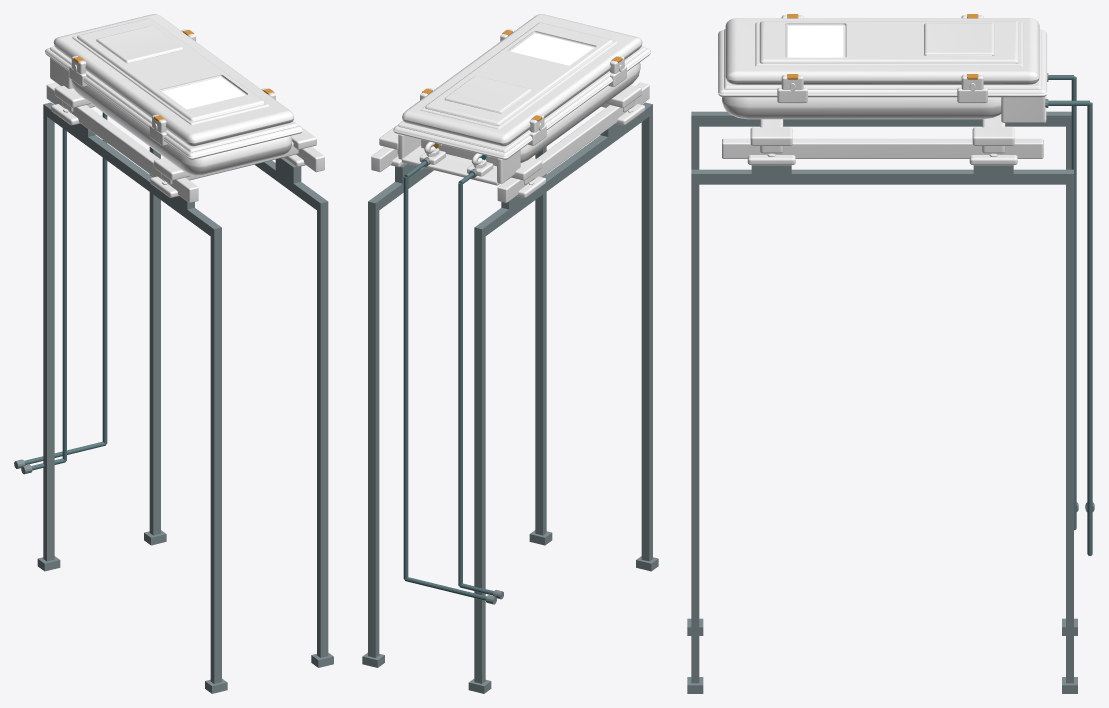
The model's file is exemplar.glb.
3 renders of one model, left to right at view 1: azimuth 30°, elevation 25°; view 2: azimuth 150°, elevation 25°; view 3: azimuth 270°, elevation 25°, orthographic. The views are drawn at different scales.
Visible parts, largest first — view 1: Static satin steel, REFERENCE upper Batch 01 warm ceramic enamel, REFERENCE upper Batch 02 graphite powdercoat, REFERENCE upper Batch 03 satin stainless, Jacketed service, REFERENCE upper Batch 04 EPDM gasket, REFERENCE upper Batch 08 recessed medical LCD atlas; view 2: Static satin steel, REFERENCE upper Batch 01 warm ceramic enamel, REFERENCE upper Batch 03 satin stainless, REFERENCE upper Batch 02 graphite powdercoat, Jacketed service, REFERENCE upper Batch 04 EPDM gasket, REFERENCE upper Batch 08 recessed medical LCD atlas; view 3: Static satin steel, REFERENCE upper Batch 01 warm ceramic enamel, REFERENCE upper Batch 02 graphite powdercoat, REFERENCE upper Batch 03 satin stainless, REFERENCE upper Batch 04 EPDM gasket, Jacketed service, REFERENCE upper Batch 08 recessed medical LCD atlas.
Part boxes in pixels (x1,y1,x2,y2): Static satin steel: [14, 102, 333, 693]; REFERENCE upper Batch 01 warm ceramic enamel: [53, 14, 293, 146]; REFERENCE upper Batch 02 graphite powdercoat: [50, 58, 305, 197]; REFERENCE upper Batch 03 satin stainless: [45, 29, 324, 202]; Jacketed service: [24, 112, 107, 470]; REFERENCE upper Batch 04 EPDM gasket: [49, 18, 316, 180]; REFERENCE upper Batch 08 recessed medical LCD atlas: [162, 77, 245, 109]; Static satin steel: [362, 102, 658, 693]; REFERENCE upper Batch 01 warm ceramic enamel: [402, 14, 642, 146]; REFERENCE upper Batch 03 satin stainless: [371, 29, 651, 202]; REFERENCE upper Batch 02 graphite powdercoat: [390, 32, 645, 197]; Jacketed service: [403, 161, 493, 600]; REFERENCE upper Batch 04 EPDM gasket: [379, 22, 646, 180]; REFERENCE upper Batch 08 recessed medical LCD atlas: [510, 33, 593, 65]; Static satin steel: [687, 73, 1094, 693]; REFERENCE upper Batch 01 warm ceramic enamel: [725, 18, 1039, 84]; REFERENCE upper Batch 02 graphite powdercoat: [722, 25, 1046, 165]; REFERENCE upper Batch 03 satin stainless: [718, 15, 1047, 158]; REFERENCE upper Batch 04 EPDM gasket: [724, 22, 1041, 145]; Jacketed service: [1048, 75, 1092, 555]; REFERENCE upper Batch 08 recessed medical LCD atlas: [788, 25, 843, 57].
Bounding box in the file's own units: 1.55 × 5.33 × 3.19.
